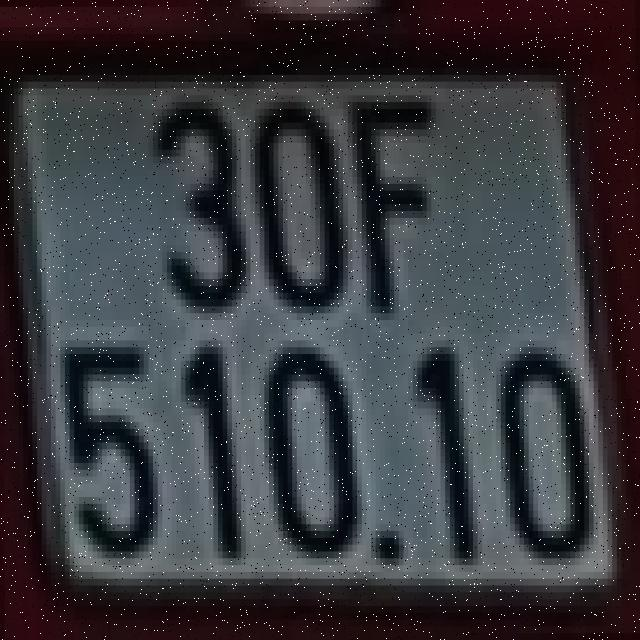0: (498, 344, 596, 562), (267, 341, 364, 558), (255, 95, 348, 314)
1: (413, 341, 482, 565), (181, 337, 246, 562)
3: (151, 95, 248, 314)
5: (61, 334, 162, 558)
F: (348, 89, 436, 320)
